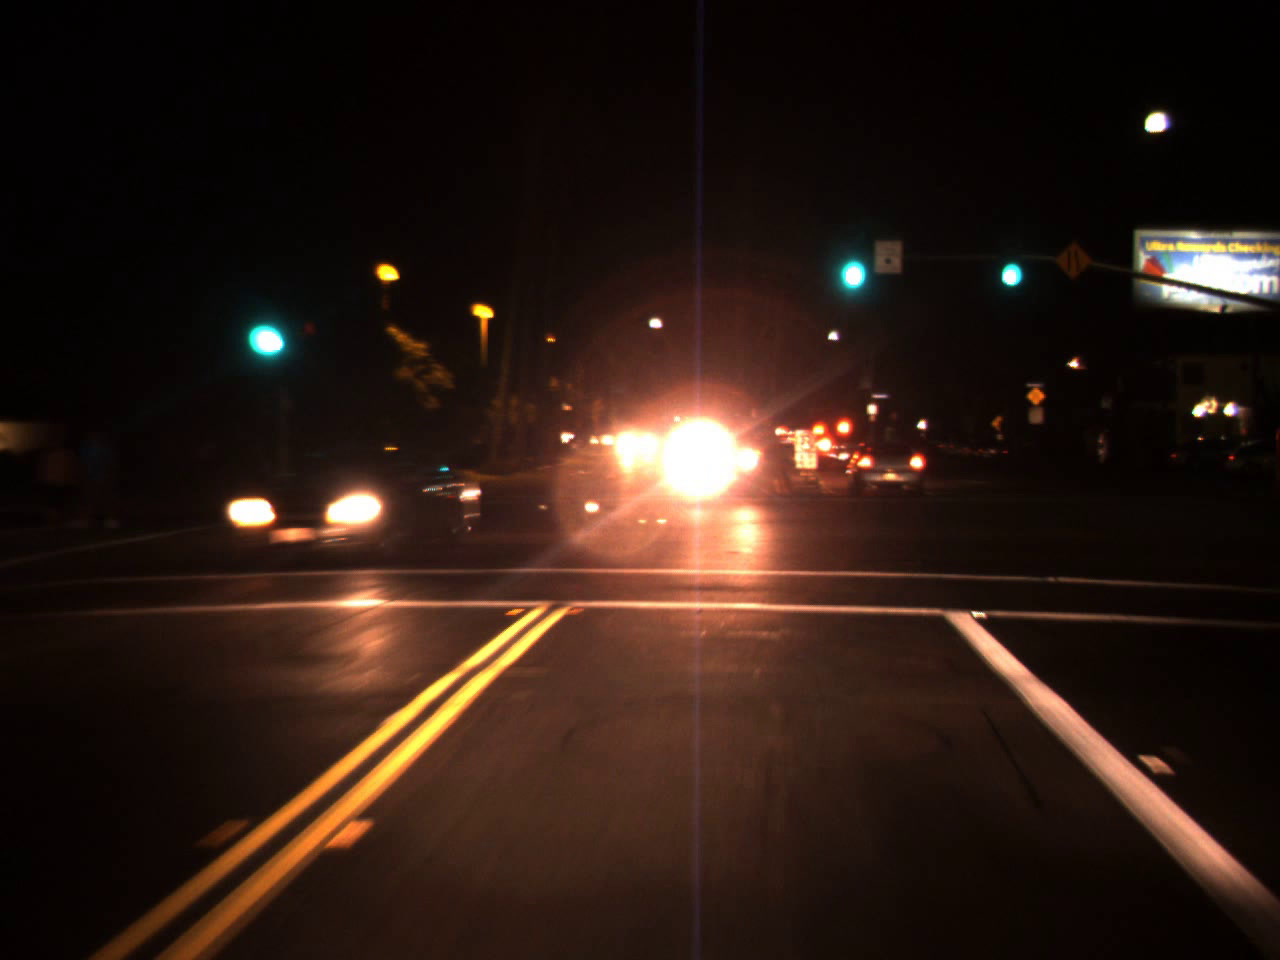go: (241, 286, 291, 367), (830, 223, 871, 301), (992, 235, 1026, 295)
